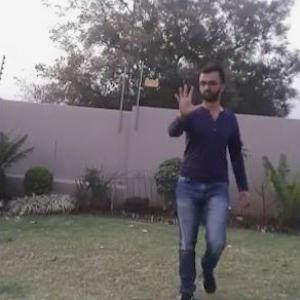follow_hand: (172, 79, 205, 116)
